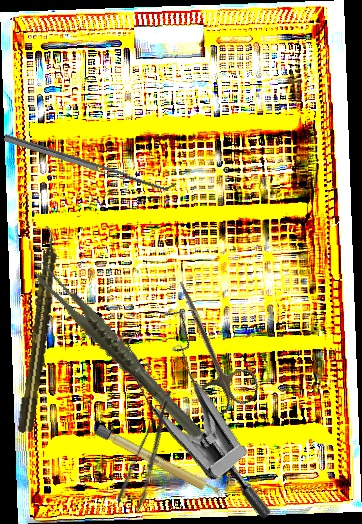Dressing Forceps: (114, 389, 192, 512)
Handpiece: (15, 225, 64, 435)
Iris Scissors: (150, 270, 264, 421)
Scalpel Handle: (93, 424, 226, 501)
Spatula Surgical: (3, 127, 177, 196)
Speculum: (84, 290, 334, 523)
Tissue Forceps: (32, 241, 214, 474)
